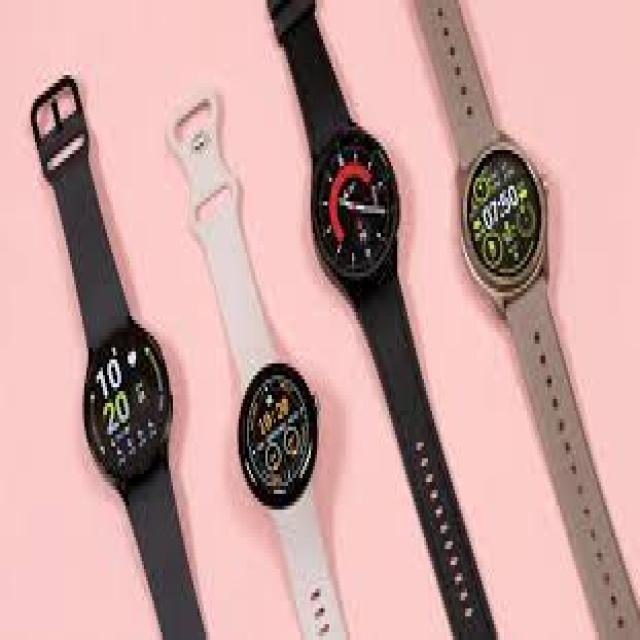objects: (268, 0, 494, 636), (416, 0, 638, 636), (167, 95, 346, 636), (33, 75, 204, 636)
